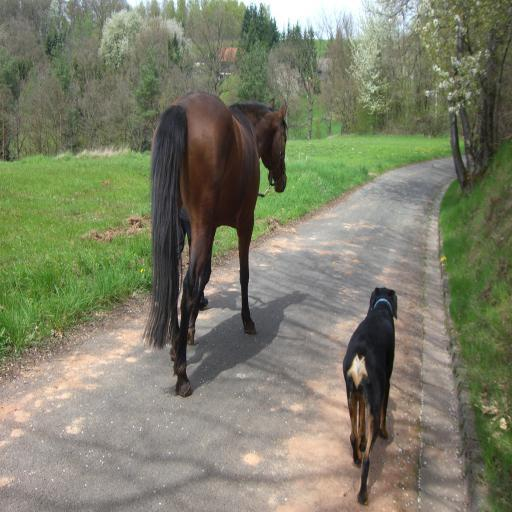horse: (140, 90, 286, 401)
